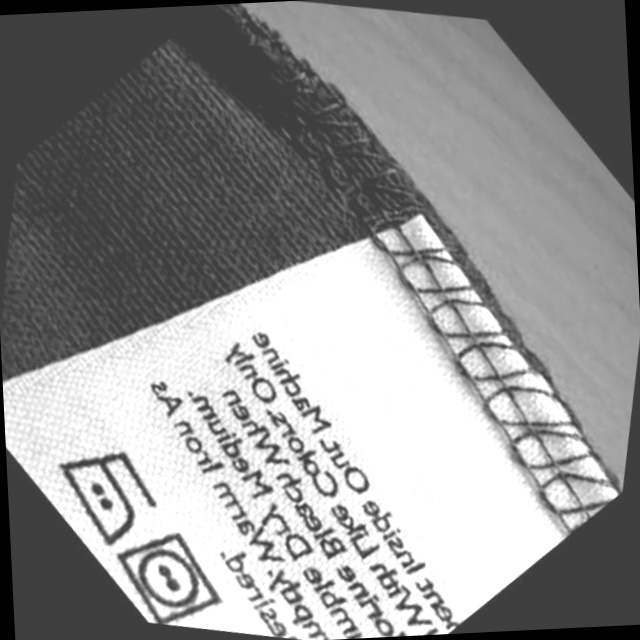iron_medium: (40, 438, 165, 552)
tumble_dry_medium: (103, 522, 231, 634)
